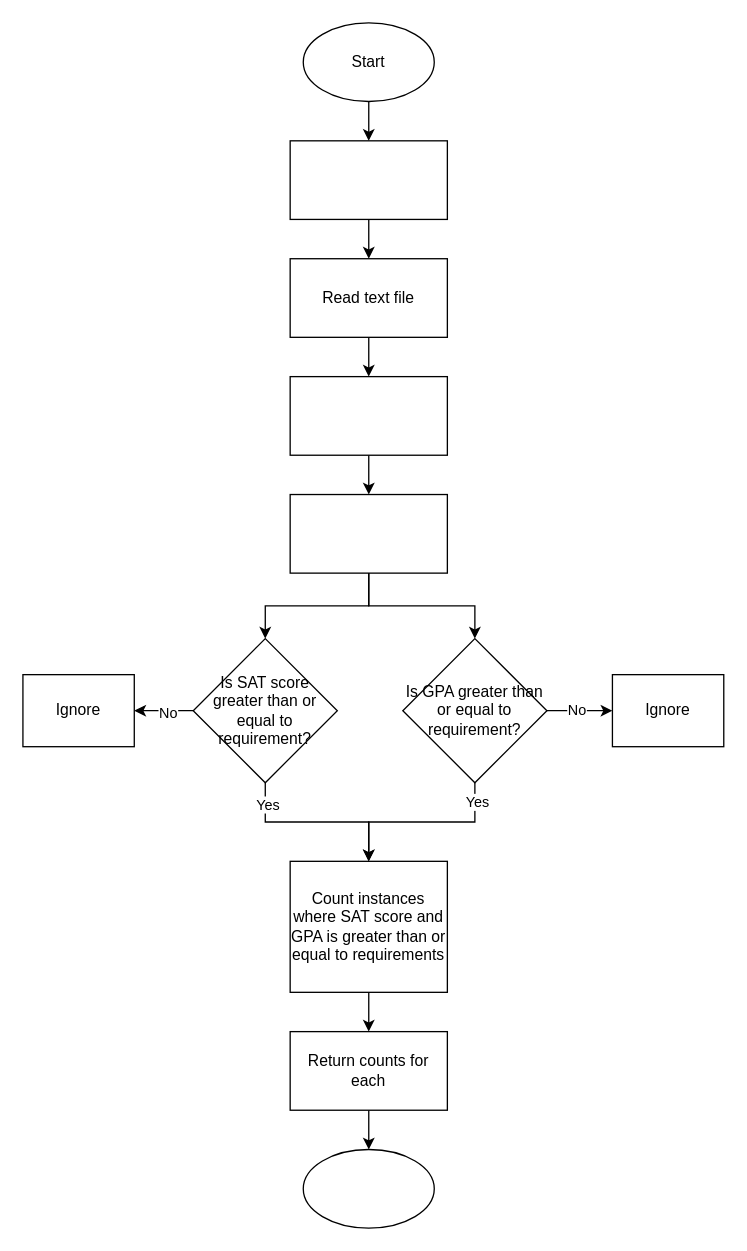
Image size: 747x1251. Some labels were removed from this diagram. Here are the shapes that lost their labels. From the top down, the centre of each, then its label:
the point at 368,179: Import pandas as pd
the point at 368,415: Ask user to input SAT
the point at 368,533: Ask user to input GPA
the point at 368,1188: Stop
